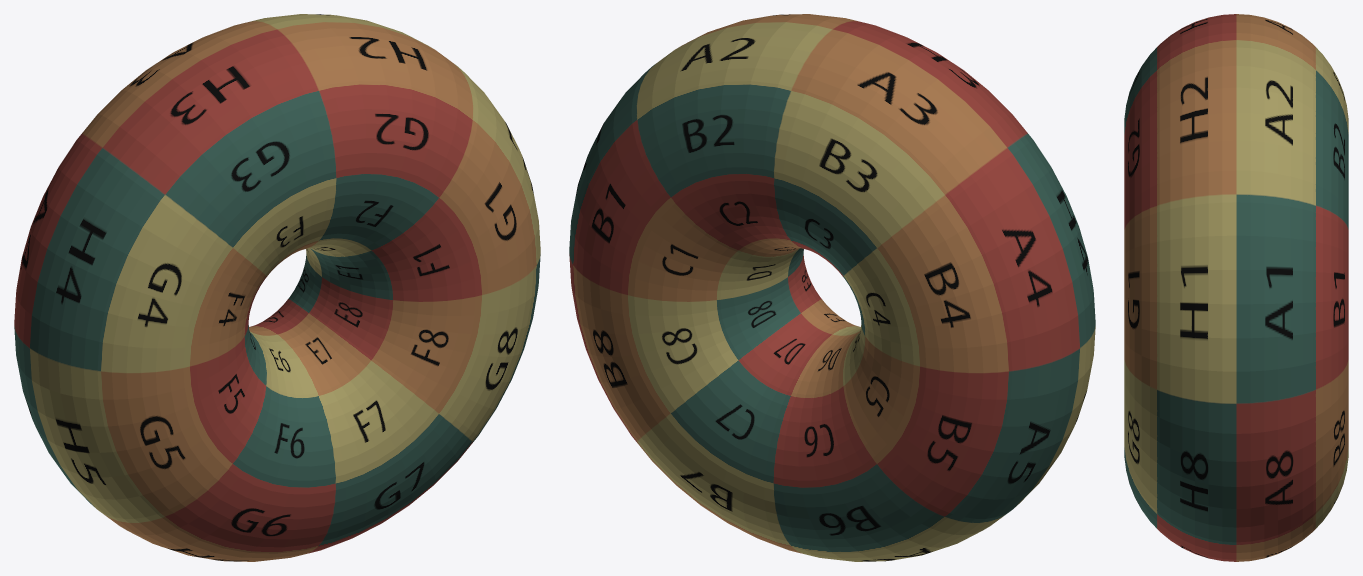
Rendered from texture_torus_R6_r29.glb.
The picture shows the model from 3 angles, left to right: view 1: azimuth 30°, elevation 25°; view 2: azimuth 150°, elevation 25°; view 3: azimuth 270°, elevation 25°; orthographic projection. The views are drawn at different scales.
Visible parts, largest first — view 1: world; view 2: world; view 3: world.
Boxes of the visible parts, left/top/right/bottom form: world: left=14, top=14, right=540, bottom=561; world: left=569, top=14, right=1095, bottom=561; world: left=1124, top=14, right=1348, bottom=561.
Size of the model in its own units: 23.73 by 23.69 by 9.71.
Materials: 1 (1 with a texture image).
